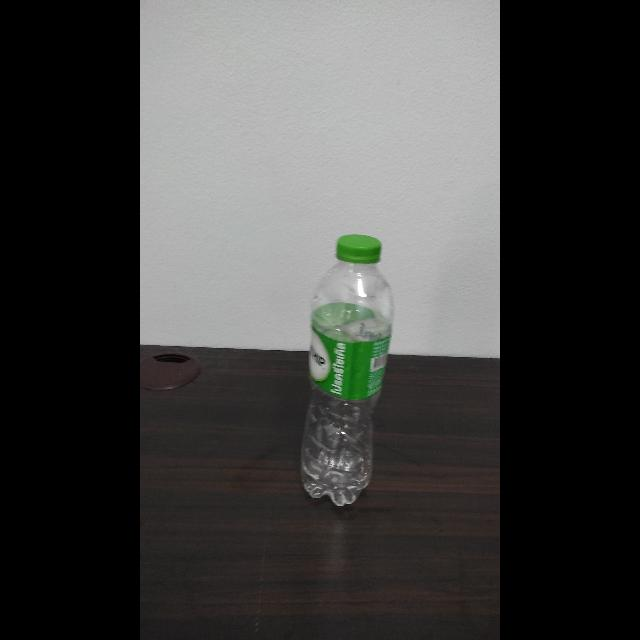plastic_bottle: (286, 224, 398, 520)
plastic_bottle_cap: (336, 231, 384, 265)
